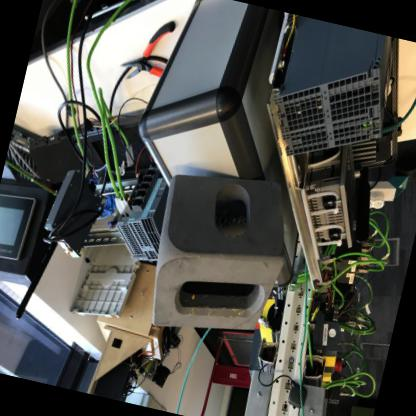CornerCasting: (135, 155, 302, 356)
